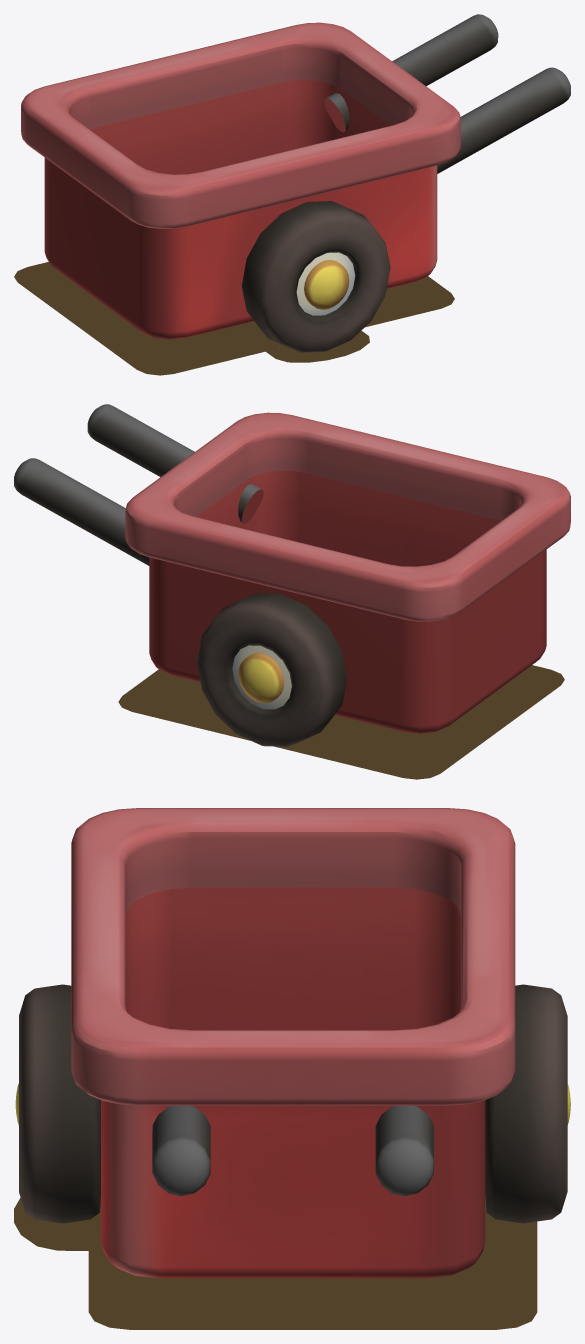
The model's file is Veg_Trolley.fbx.
The picture shows the model from 3 angles, top to bottom: view 1: azimuth 30°, elevation 25°; view 2: azimuth 150°, elevation 25°; view 3: azimuth 270°, elevation 25°; orthographic projection. The views are drawn at different scales.
Visible parts, largest first — view 1: trolley_body, Trolley_SDW; view 2: trolley_body, Trolley_SDW; view 3: trolley_body, Trolley_SDW.
Part boxes in pixels (left/top/right/bottom): trolley_body: left=21, top=14, right=570, bottom=352; Trolley_SDW: left=14, top=262, right=454, bottom=375; trolley_body: left=14, top=404, right=570, bottom=746; Trolley_SDW: left=118, top=665, right=564, bottom=779; trolley_body: left=15, top=808, right=570, bottom=1278; Trolley_SDW: left=14, top=1195, right=537, bottom=1329.
Size of the model in its own units: 148 by 58.05 by 102.
Materials: 2 (1 with a texture image).
